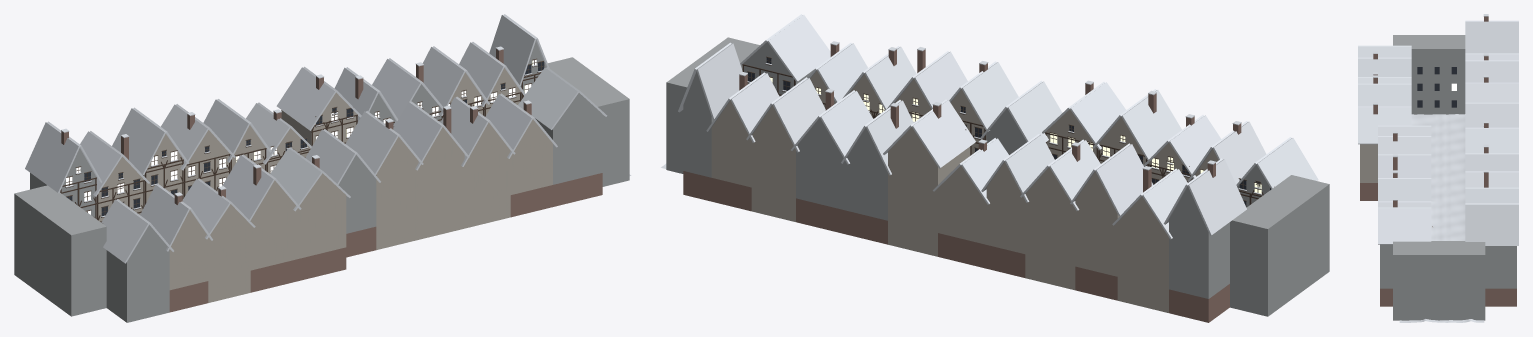
File: street_corner.glb
3 renders of one model, left to right at view 1: azimuth 30°, elevation 25°; view 2: azimuth 150°, elevation 25°; view 3: azimuth 270°, elevation 25°, orthographic. The views are drawn at different scales.
Parts seen in each view (by area): view 1: ENV_end_w_body, ENV_end_e_body, ENV_h14_upper, ENV_h4_upper, ENV_h0_upper, ENV_h3_upper, ENV_h11_upper, ENV_h10_upper, ENV_h20_roofL, ENV_h12_upper, ENV_h2_upper, ENV_h26_roofL (+56 smaller); view 2: ENV_end_w_body, ENV_h20_upper, ENV_h26_upper, ENV_h23_upper, ENV_h21_upper, ENV_h22_upper, ENV_h28_upper, ENV_end_e_body, ENV_h20_roofL, ENV_h14_roofL, ENV_h29_upper, ENV_h24_upper (+57 smaller); view 3: ENV_end_e_body, ENV_ground_snow, ENV_end_w_body, ENV_h31_roofR, ENV_h14_roofR, ENV_h20_roofR, ENV_h4_roofR, ENV_h31_upper, ENV_h26_roofR, ENV_h24_roofR, ENV_h3_roofR, ENV_h12_roofR (+18 smaller).
Boxes of the visible parts, x1,y1,x2,y2 form: ENV_end_w_body: (14, 185, 106, 316); ENV_end_e_body: (548, 57, 629, 186); ENV_h14_upper: (535, 114, 602, 184); ENV_h4_upper: (296, 195, 346, 259); ENV_h0_upper: (106, 249, 169, 300); ENV_h3_upper: (250, 206, 296, 270); ENV_h11_upper: (418, 154, 464, 217); ENV_h10_upper: (376, 161, 418, 227); ENV_h20_roofL: (25, 122, 79, 193); ENV_h12_upper: (464, 150, 510, 206); ENV_h2_upper: (208, 224, 250, 280); ENV_h26_roofL: (276, 67, 335, 130); ENV_end_w_body: (1230, 175, 1329, 316); ENV_h20_upper: (1169, 219, 1229, 298); ENV_h26_upper: (888, 146, 970, 232); ENV_h23_upper: (1025, 194, 1075, 266); ENV_h21_upper: (1117, 222, 1168, 289); ENV_h22_upper: (1075, 200, 1119, 276); ENV_h28_upper: (796, 147, 846, 210); ENV_end_e_body: (666, 37, 759, 173); ENV_h20_roofL: (1187, 159, 1246, 235); ENV_h14_roofL: (767, 15, 830, 82); ENV_h29_upper: (751, 136, 795, 198); ENV_h24_upper: (986, 187, 1025, 253); ENV_end_e_body: (1393, 241, 1485, 320); ENV_ground_snow: (1399, 114, 1484, 322); ENV_end_w_body: (1393, 35, 1465, 114); ENV_h31_roofR: (1465, 204, 1518, 245); ENV_h14_roofR: (1378, 208, 1431, 244); ENV_h20_roofR: (1465, 21, 1518, 53); ENV_h4_roofR: (1358, 107, 1411, 144); ENV_h31_upper: (1485, 246, 1516, 288); ENV_h26_roofR: (1465, 128, 1518, 153); ENV_h24_roofR: (1465, 103, 1518, 127); ENV_h3_roofR: (1358, 84, 1411, 106); ENV_h12_roofR: (1378, 179, 1431, 201).
Size of the model in its own units: 79.86 by 17.76 by 24.4.
